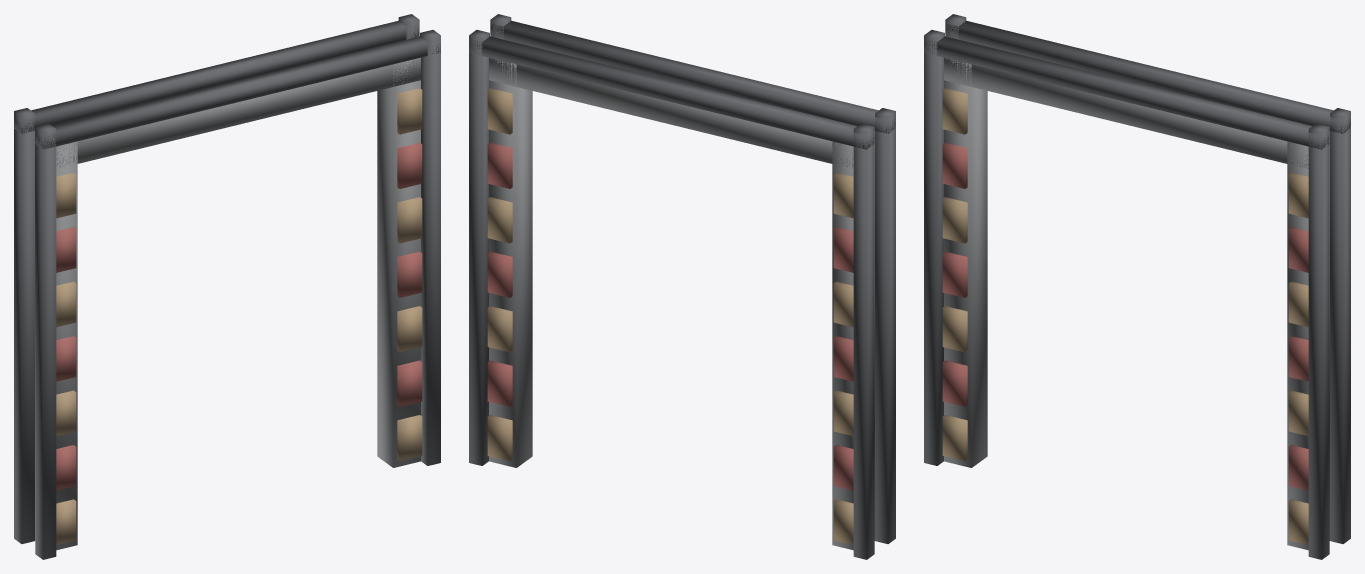
Rendered from doorway_brick_return_w182_h210_d16.glb.
3 renders of one model, left to right at view 1: azimuth 30°, elevation 25°; view 2: azimuth 150°, elevation 25°; view 3: azimuth 330°, elevation 25°, orthographic.
Parts seen in each view (by area): view 1: world; view 2: world; view 3: world.
Part boxes in pixels (box(x1,y1,x2,y2)): world: box(14, 14, 440, 559); world: box(469, 14, 895, 559); world: box(924, 14, 1350, 559).
Size of the model in its own units: 2.29 by 2.36 by 0.2906.
